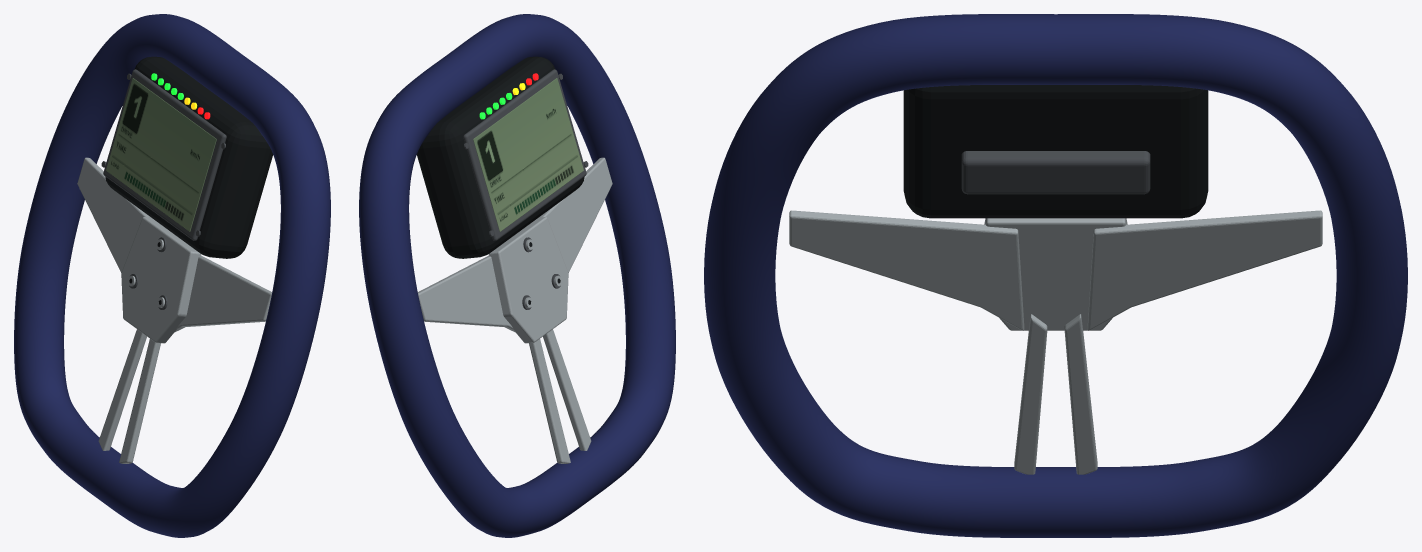
The model's file is SM_CT4_SteeringWheel.fbx.
3 views of the same model, side by side, from view 1: azimuth 30°, elevation 25°; view 2: azimuth 150°, elevation 25°; view 3: azimuth 270°, elevation 25° (orthographic). The views are drawn at different scales.
Parts seen in each view (by area): view 1: SM_CT4_SteeringWheel; view 2: SM_CT4_SteeringWheel; view 3: SM_CT4_SteeringWheel.
Boxes of the visible parts, x1=… form: SM_CT4_SteeringWheel: x1=14, y1=14, x2=330, y2=537; SM_CT4_SteeringWheel: x1=359, y1=14, x2=675, y2=537; SM_CT4_SteeringWheel: x1=704, y1=14, x2=1407, y2=537.
Bounding box in the file's own units: 12.52 × 33.53 × 31.47.
